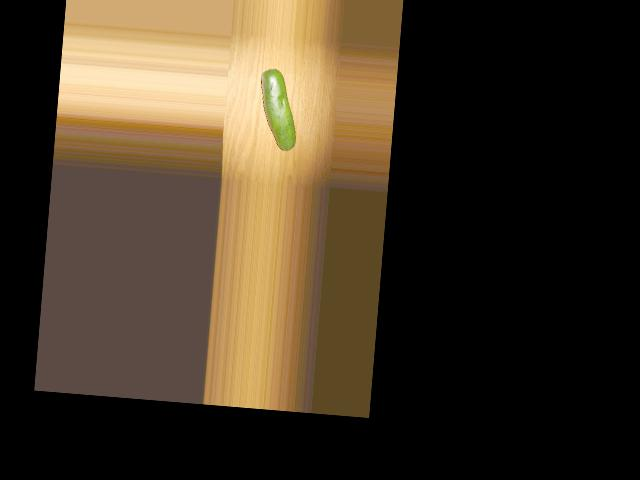cucumber: (255, 69, 300, 152)
